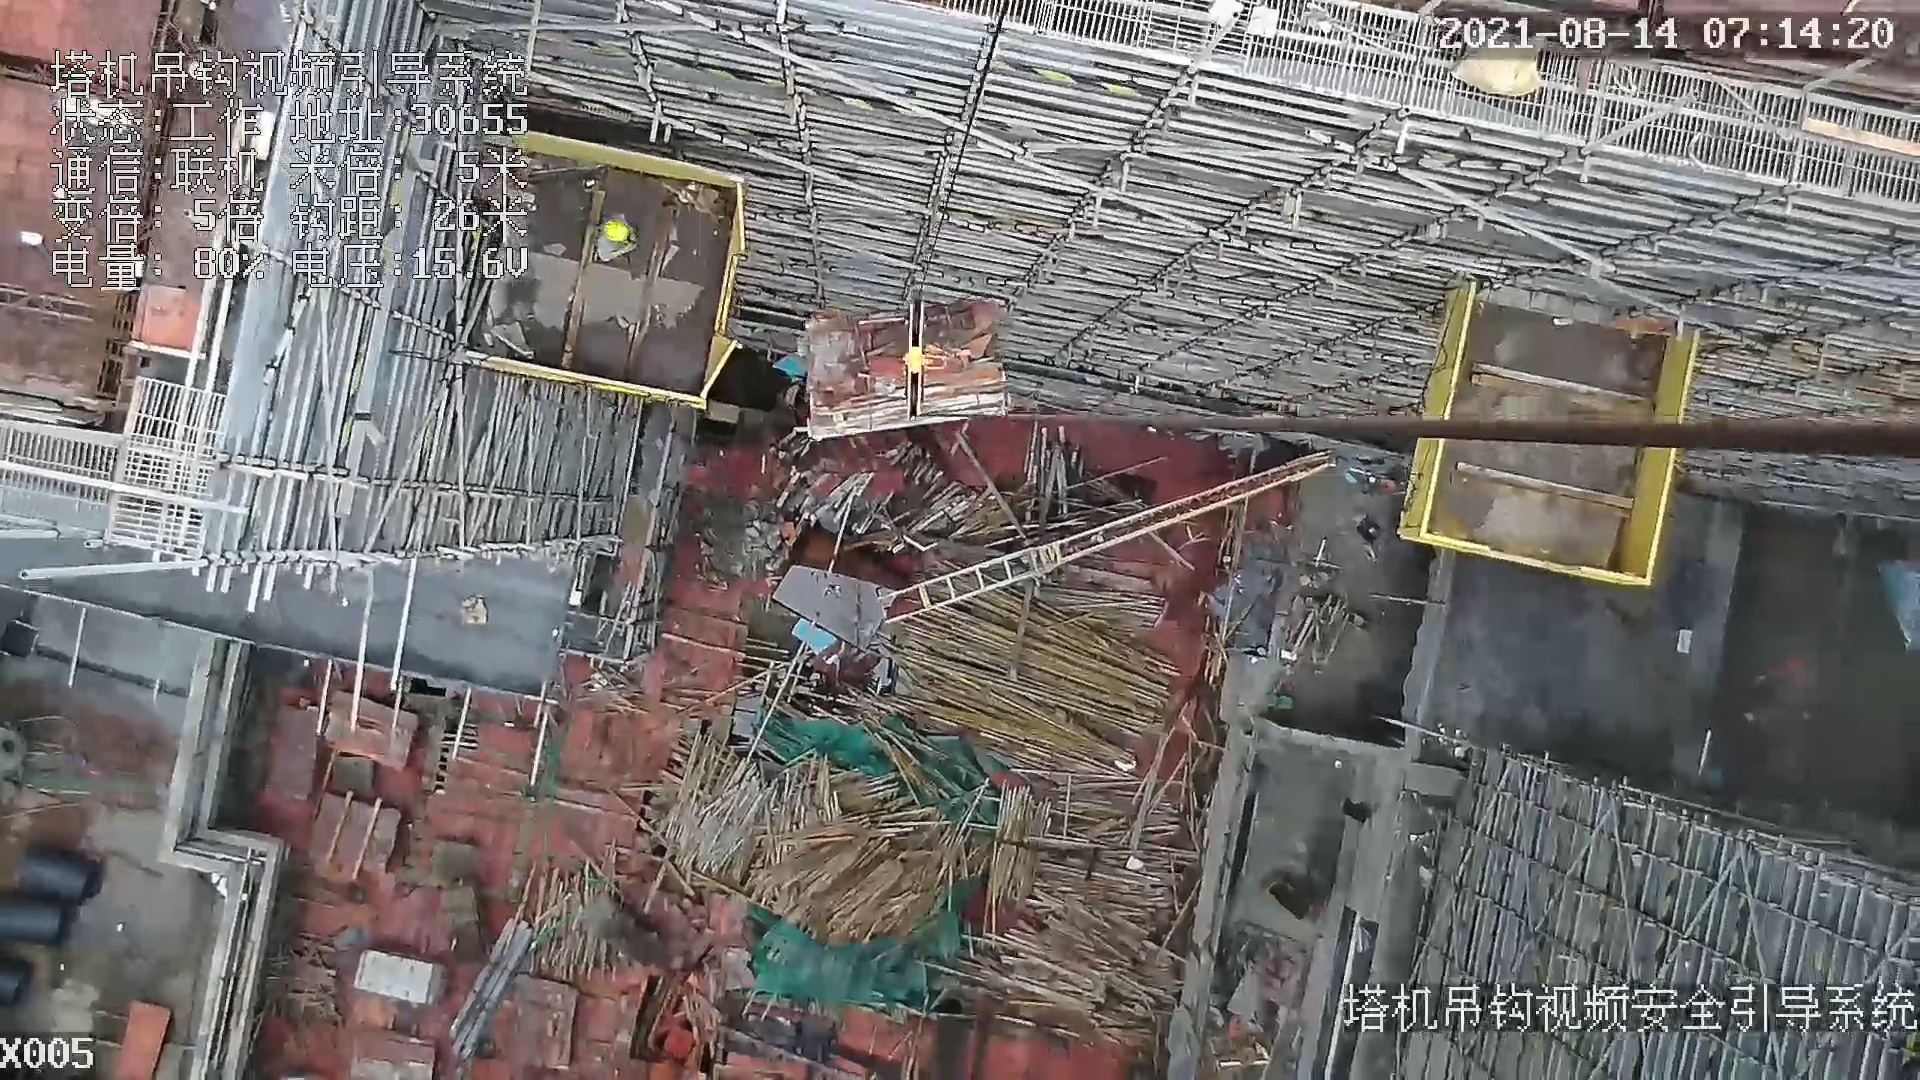helmet: (606, 217, 632, 249)
hook: (896, 296, 950, 421)
person: (590, 208, 637, 259)
